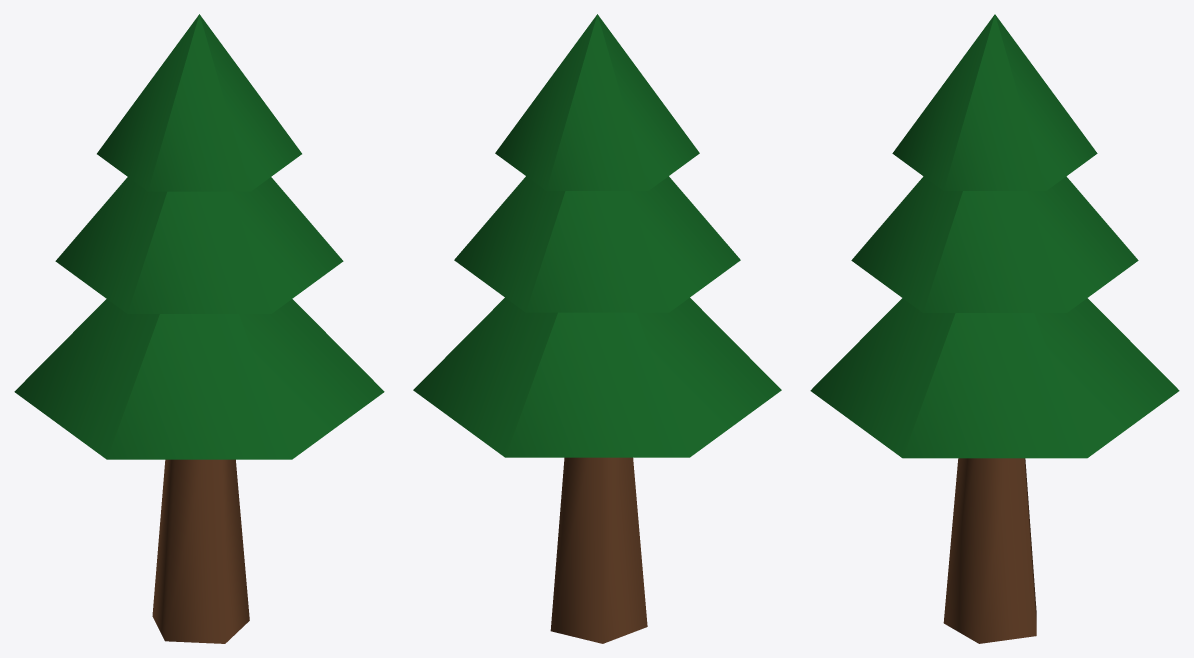
Rendered from tree_pine.glb.
3 views of the same model, side by side, from view 1: azimuth 30°, elevation 25°; view 2: azimuth 150°, elevation 25°; view 3: azimuth 270°, elevation 25° (orthographic).
Parts seen in each view (by area): view 1: node_1, node_2, node_3, node_0; view 2: node_1, node_2, node_3, node_0; view 3: node_1, node_2, node_3, node_0.
Part boxes in pixels (x1,y1,x2,y2): node_1: [14, 299, 384, 459]; node_2: [55, 177, 343, 313]; node_3: [97, 14, 301, 191]; node_0: [152, 459, 249, 643]; node_1: [413, 298, 781, 457]; node_2: [454, 176, 740, 312]; node_3: [495, 14, 699, 190]; node_0: [550, 457, 647, 643]; node_1: [810, 298, 1179, 458]; node_2: [851, 176, 1138, 312]; node_3: [892, 14, 1097, 190]; node_0: [943, 458, 1036, 643].
Size of the model in its own units: 0.3118 by 0.655 by 0.36.
